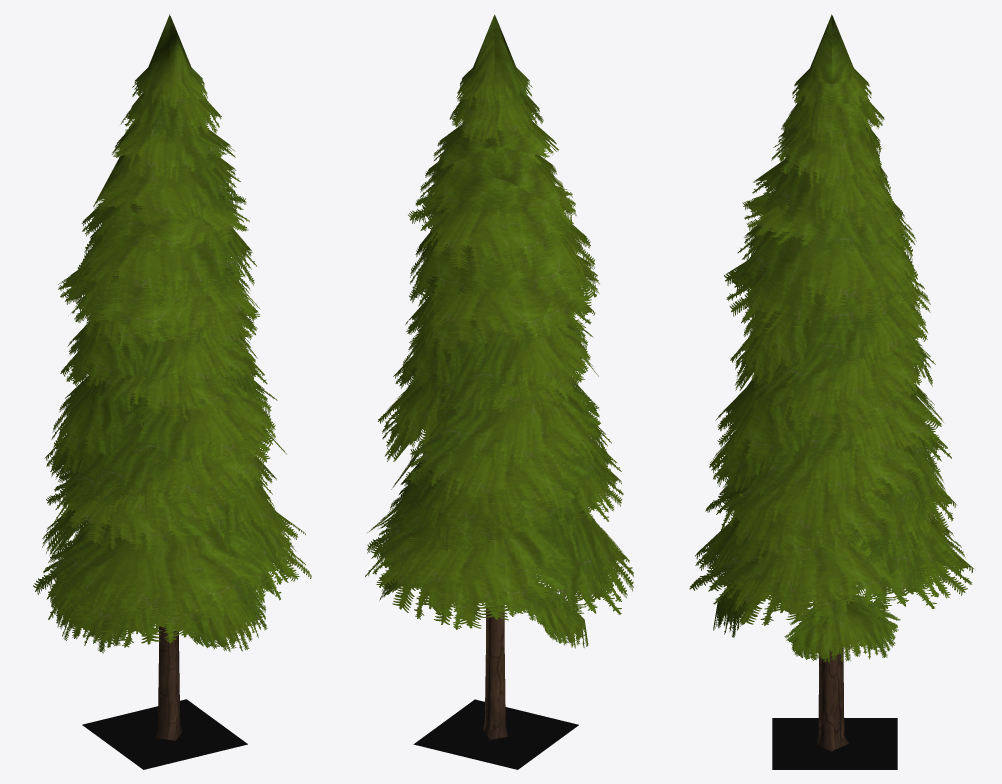
File: jj_tyshu04.FBX
3 views of the same model, side by side, from view 1: azimuth 30°, elevation 25°; view 2: azimuth 150°, elevation 25°; view 3: azimuth 270°, elevation 25° (orthographic).
Visible parts, largest first — view 1: jj_tyshu04, shadow; view 2: jj_tyshu04, shadow; view 3: jj_tyshu04, shadow.
Part boxes in pixels (bbox=[...]): jj_tyshu04: bbox=[33, 14, 311, 740]; shadow: bbox=[82, 699, 247, 769]; jj_tyshu04: bbox=[365, 14, 633, 739]; shadow: bbox=[413, 699, 578, 769]; jj_tyshu04: bbox=[689, 14, 974, 751]; shadow: bbox=[772, 718, 897, 769].
Size of the model in its own units: 169 by 442 by 170.
Materials: 2 (2 with a texture image).
